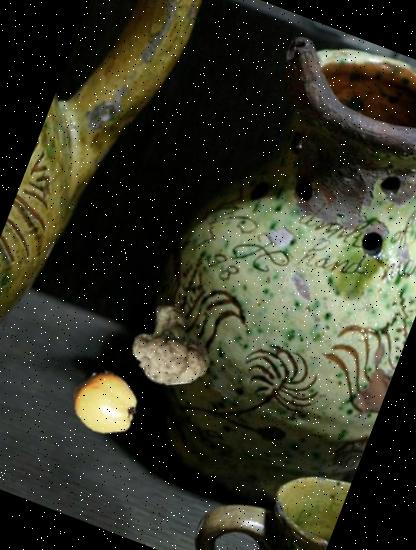Cauliflower: (116, 292, 222, 397)
Quince: (61, 360, 148, 447)
